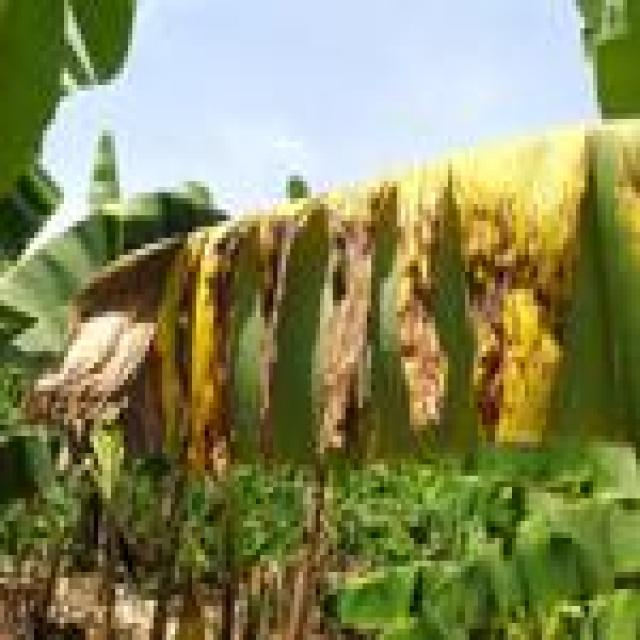Early_rust: (36, 109, 629, 552)
